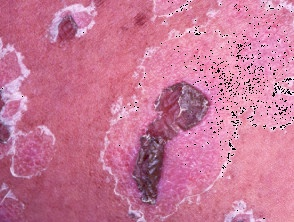SJS-TEN: (68, 27, 283, 222)
